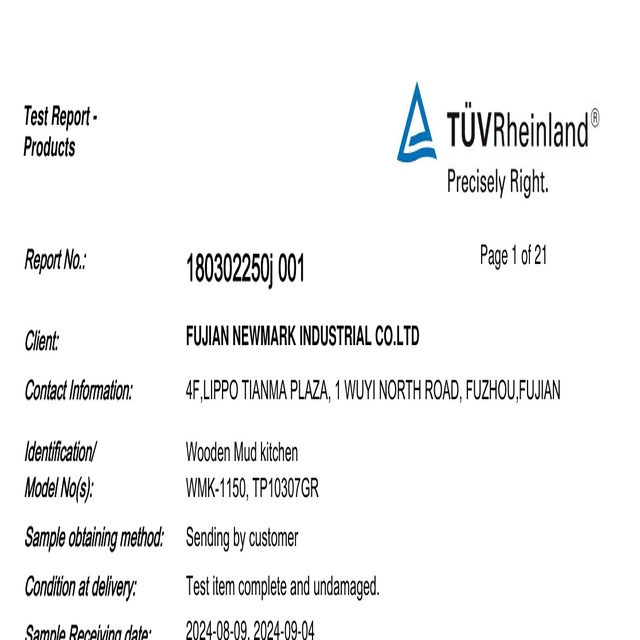tuv_rheinland: (396, 77, 602, 167)
